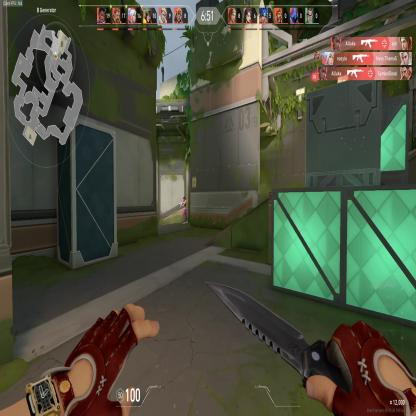enemy: (180, 196, 188, 224)
